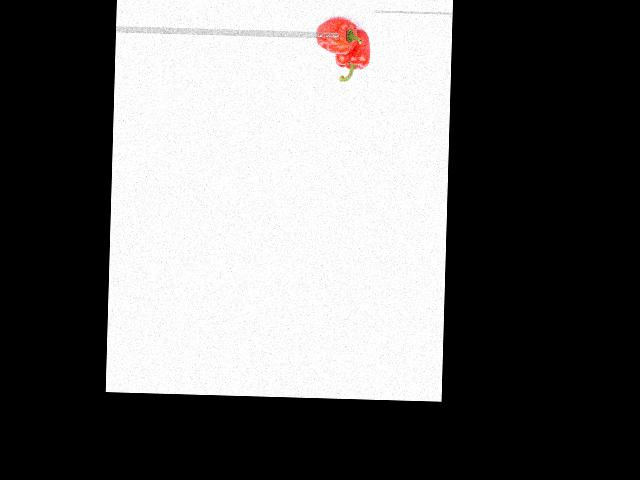bell_pepper: (310, 17, 361, 58)
